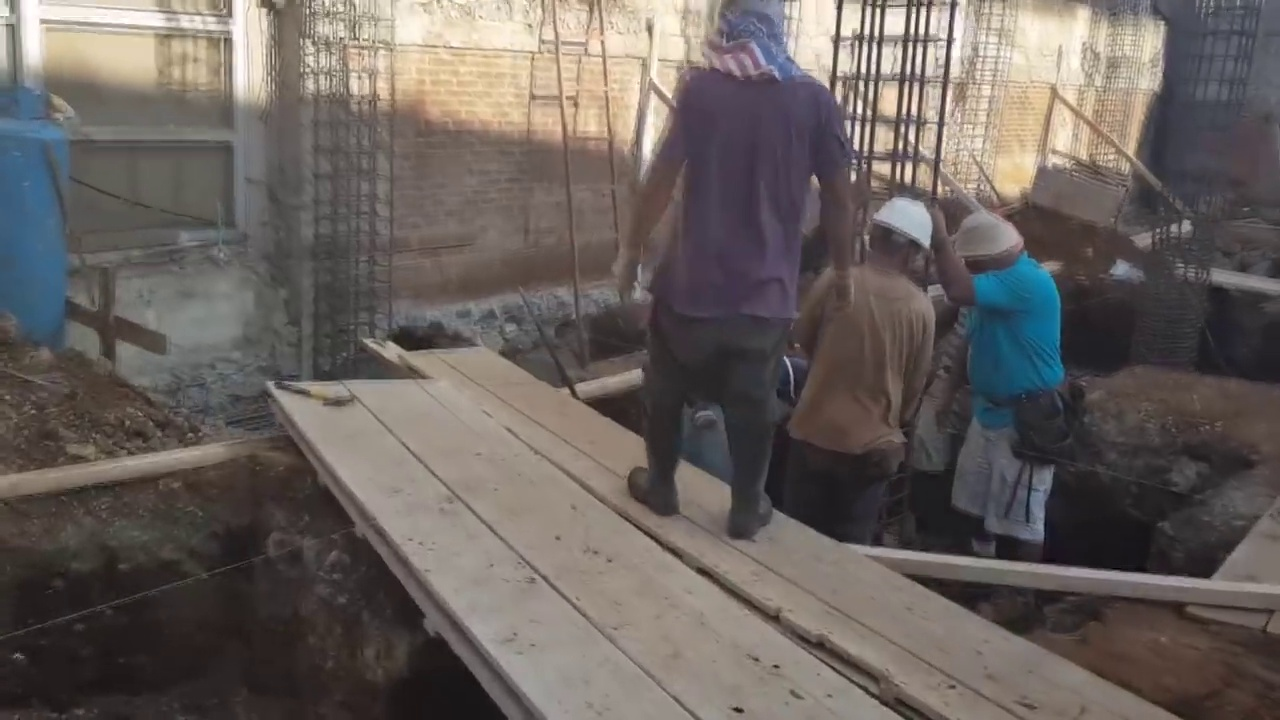helmet: (874, 197, 936, 249)
helmet-off: (951, 205, 1025, 284)
helmet-on: (867, 195, 951, 291)
person: (613, 5, 866, 541), (777, 180, 950, 570), (946, 200, 1072, 586)
